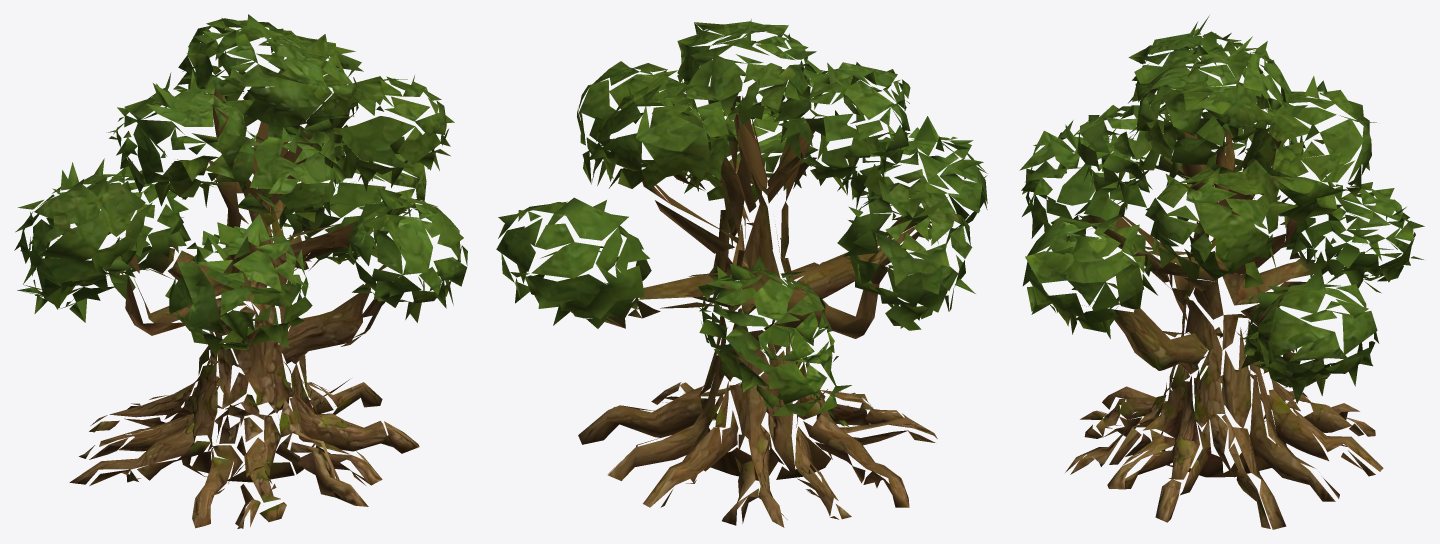
The model's file is tree.glb.
3 renders of one model, left to right at view 1: azimuth 30°, elevation 25°; view 2: azimuth 150°, elevation 25°; view 3: azimuth 270°, elevation 25°, orthographic. The views are drawn at different scales.
Size of the model in its own units: 0.9842 by 0.9382 by 0.8288.
1 material, 1 textured.
